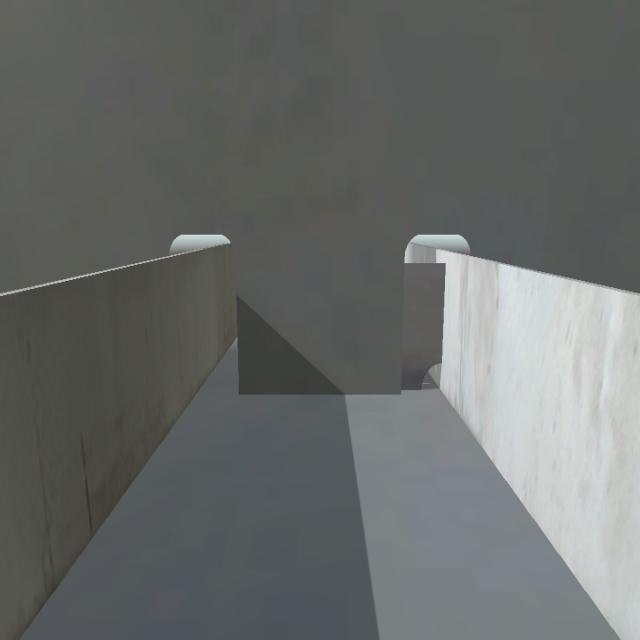fillet_hole: (420, 354, 443, 390)
fillet_yong_jeop_jang: (242, 385, 420, 401)
longi_yong_jeop_jang: (438, 265, 451, 365)
plate_behind: (404, 264, 446, 390)
